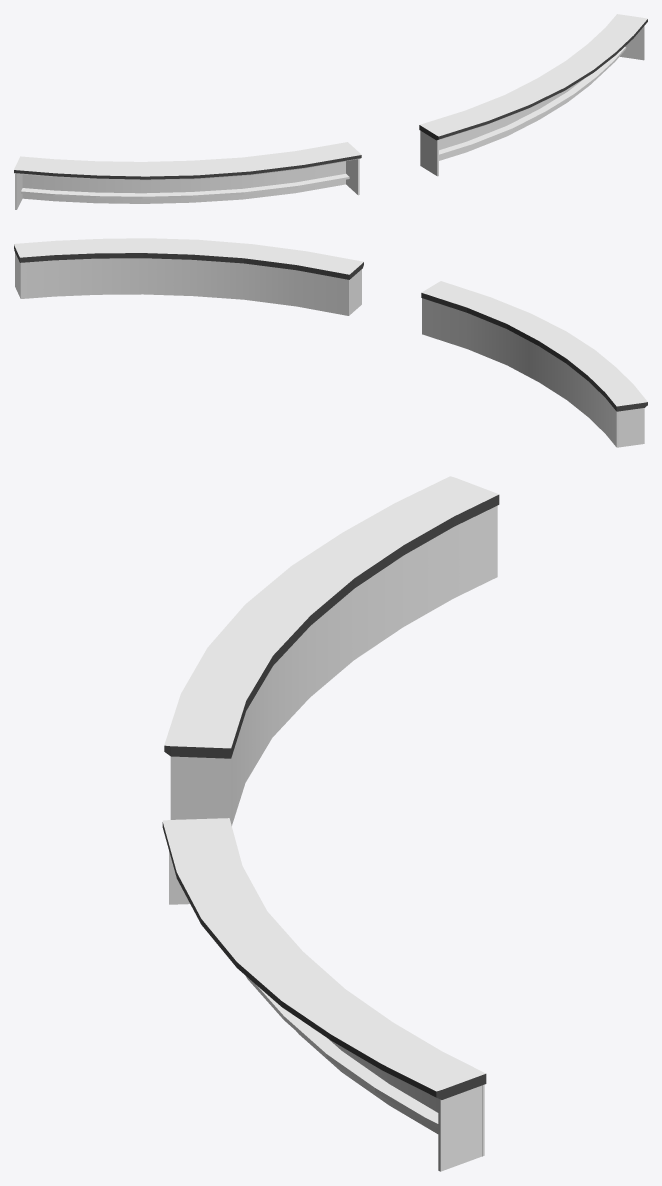
File: studentdesk4.fbx
3 renders of one model, top to bottom at view 1: azimuth 30°, elevation 25°; view 2: azimuth 150°, elevation 25°; view 3: azimuth 270°, elevation 25°, orthographic. The views are drawn at different scales.
Parts seen in each view (by area): view 1: studentdesk4; view 2: studentdesk4; view 3: studentdesk4.
Part boxes in pixels (bbox=[...]): studentdesk4: bbox=[14, 14, 647, 209]; studentdesk4: bbox=[14, 238, 647, 447]; studentdesk4: bbox=[162, 476, 499, 1171].
Size of the model in its own units: 1568 by 97.87 by 363.
Materials: 1 (1 with a texture image).
